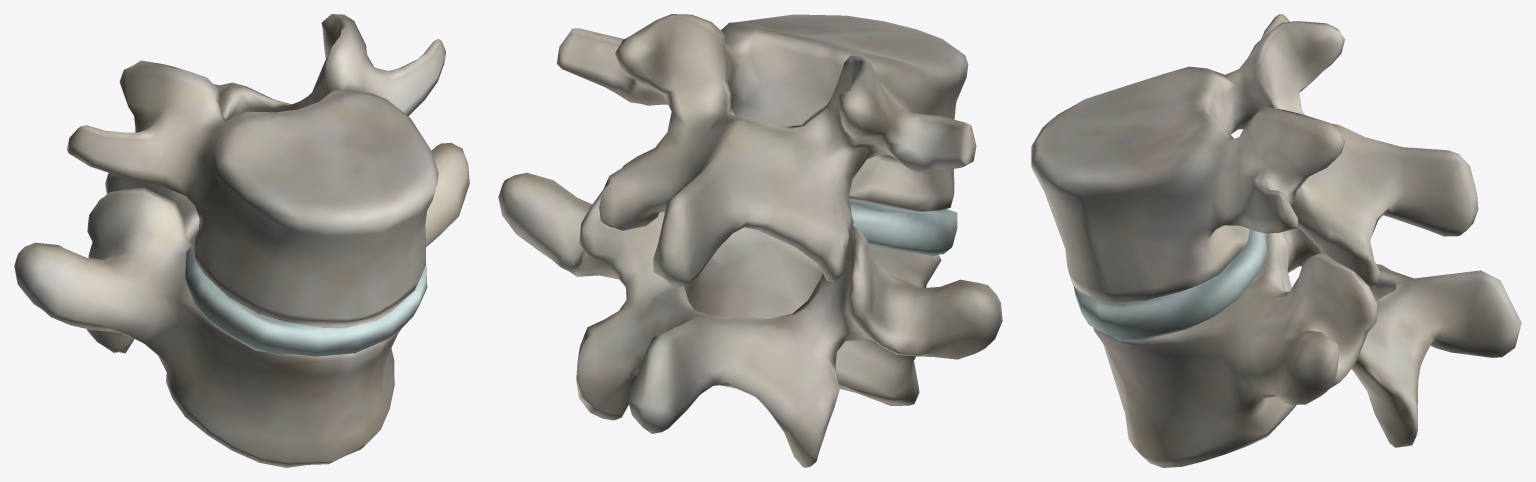
The model's file is l4-l5-disc.glb.
3 renders of one model, left to right at view 1: azimuth 30°, elevation 25°; view 2: azimuth 150°, elevation 25°; view 3: azimuth 270°, elevation 25°, orthographic. The views are drawn at different scales.
Parts seen in each view (by area): view 1: L4_vertebra, L5_vertebra, Intervertebral_disc_of_L4_vertebra; view 2: L4_vertebra, L5_vertebra, Intervertebral_disc_of_L4_vertebra; view 3: L4_vertebra, L5_vertebra, Intervertebral_disc_of_L4_vertebra.
Part boxes in pixels (x1,y1,x2,y2): L4_vertebra: [67, 14, 445, 328]; L5_vertebra: [14, 143, 469, 467]; Intervertebral_disc_of_L4_vertebra: [185, 243, 427, 356]; L4_vertebra: [556, 14, 976, 287]; L5_vertebra: [498, 172, 1002, 467]; Intervertebral_disc_of_L4_vertebra: [849, 200, 957, 256]; L4_vertebra: [1031, 14, 1478, 302]; L5_vertebra: [1093, 226, 1521, 467]; Intervertebral_disc_of_L4_vertebra: [1074, 229, 1267, 341].
Size of the model in its own units: 0.1 by 0.0778 by 0.0913.
Materials: 3 (3 with a texture image).
